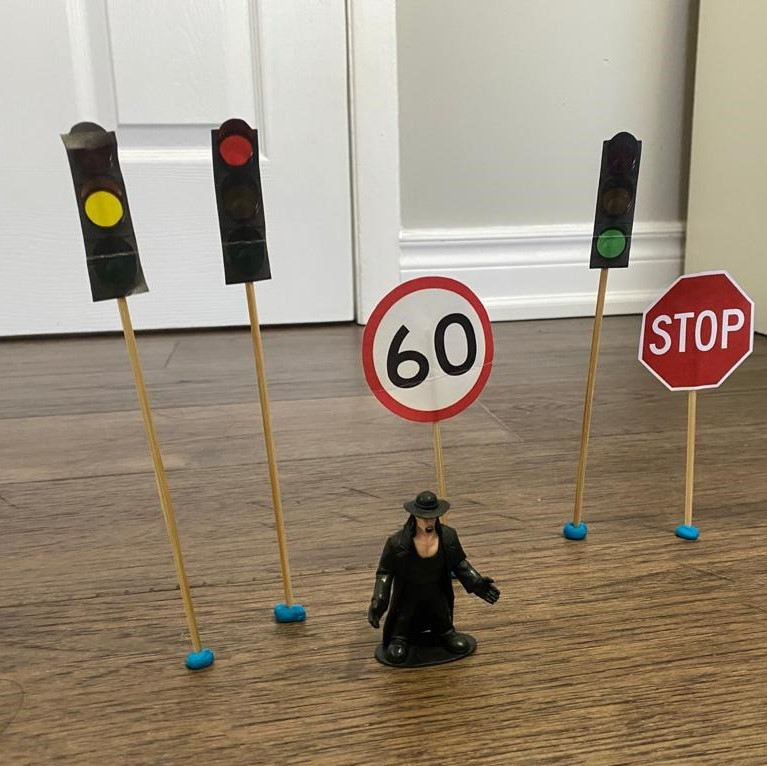Green Traffic Light: (582, 129, 649, 272)
Person: (359, 485, 501, 676)
Red Traffic Light: (201, 117, 276, 291)
Speed Limit 60: (355, 269, 499, 431)
Stop Sign: (639, 268, 757, 402)
Yellow Traffic Light: (60, 121, 149, 308)
